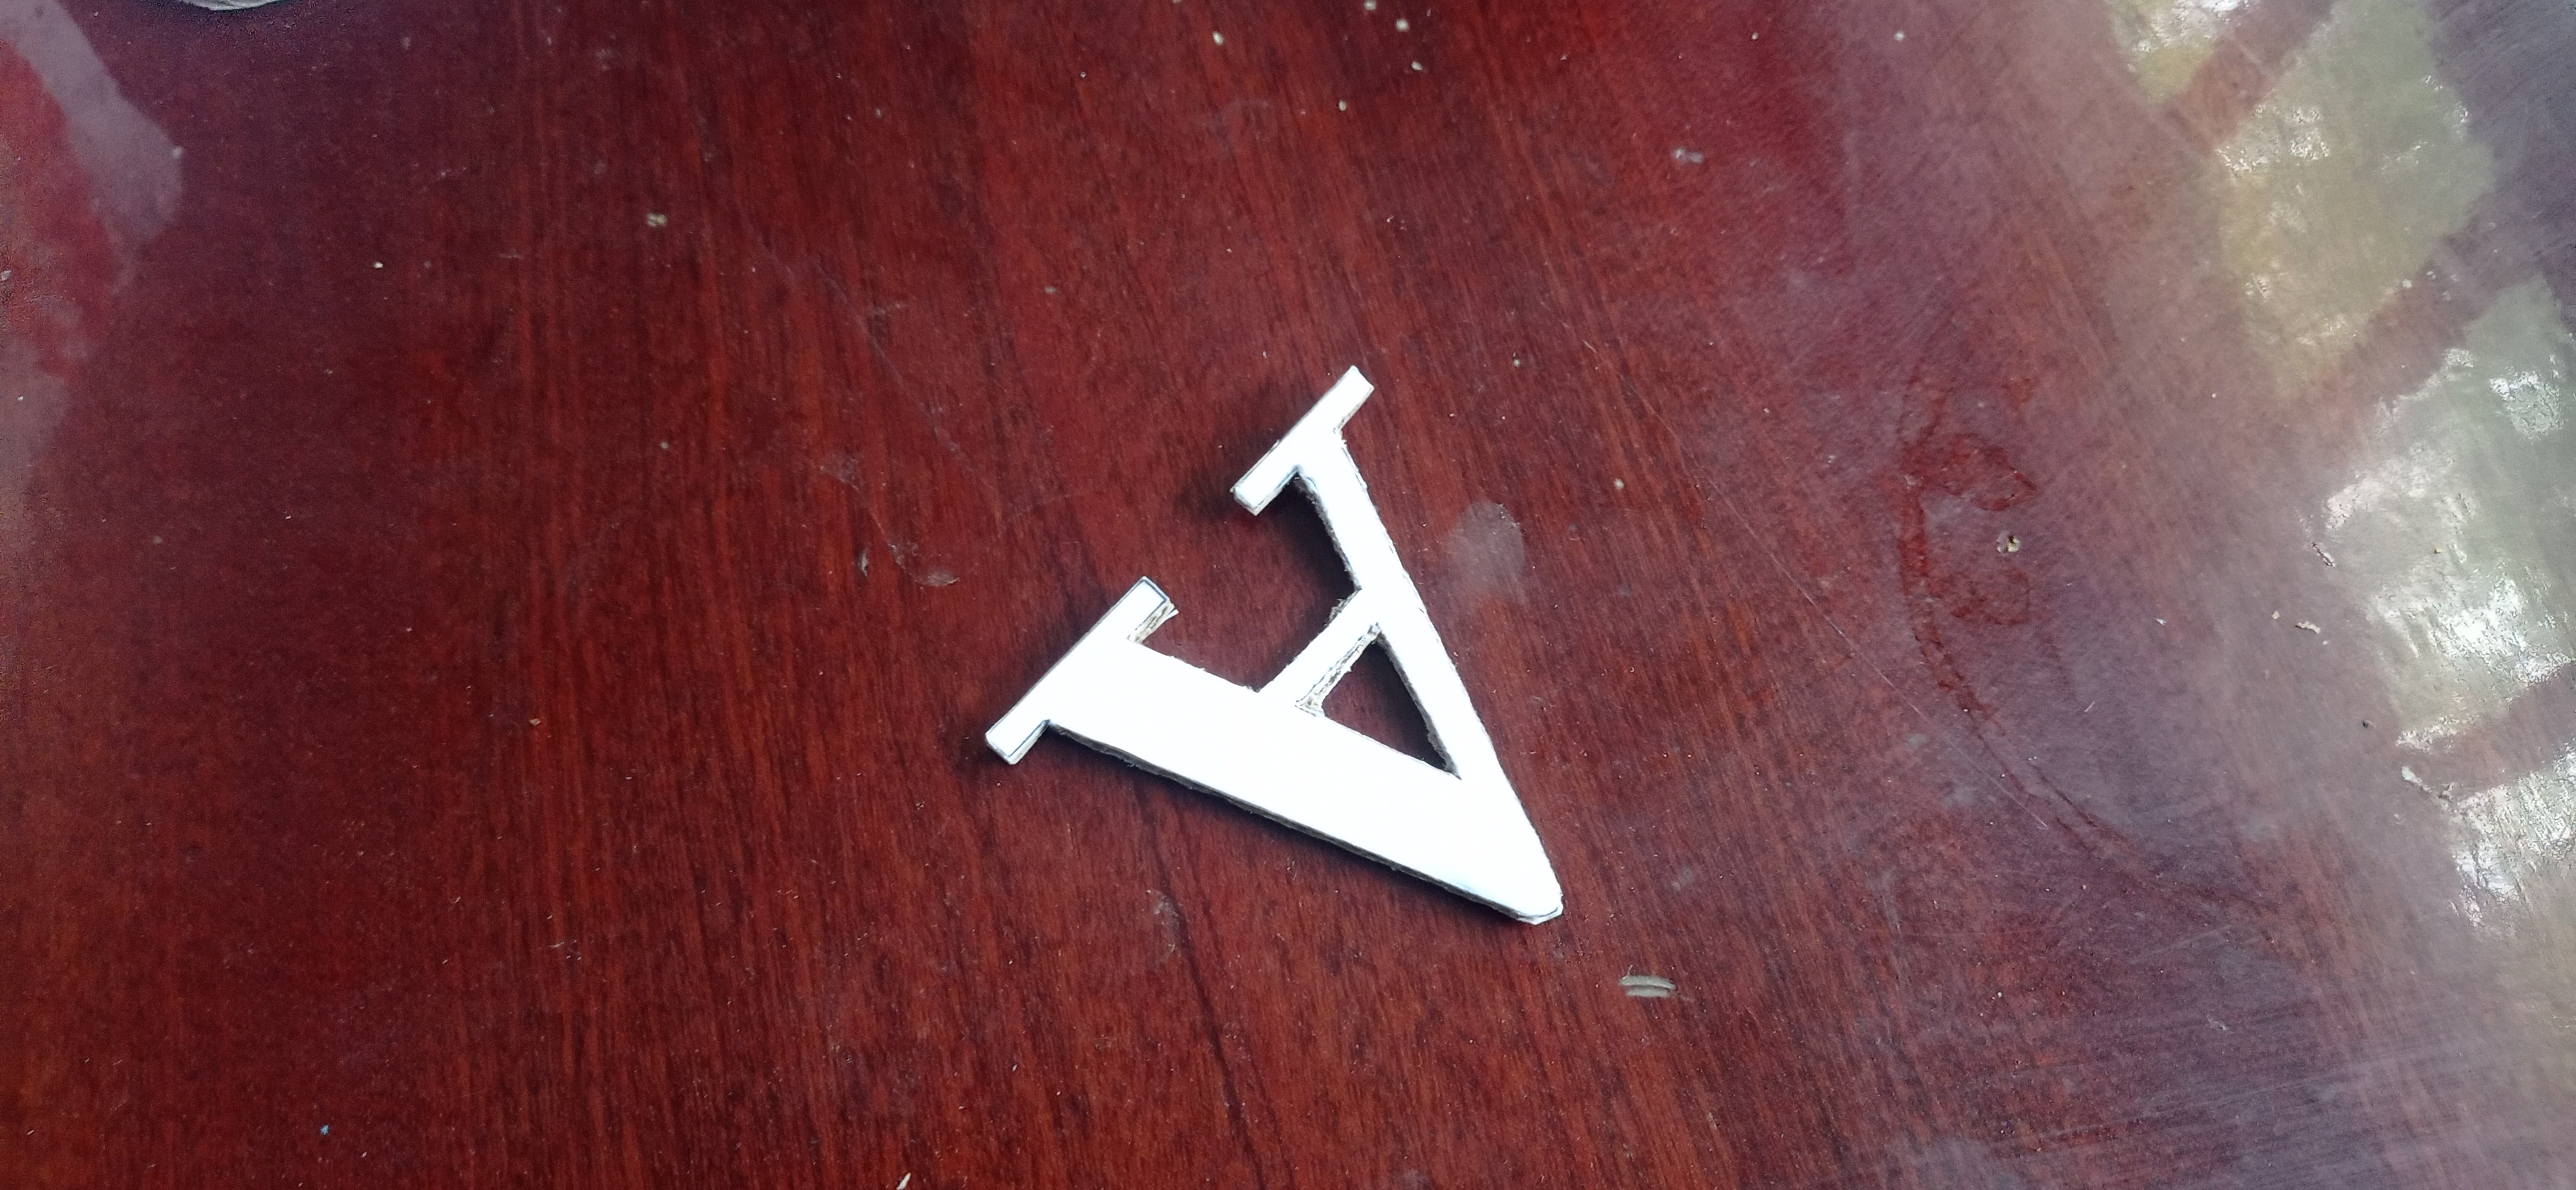a: (979, 358, 1567, 929)
